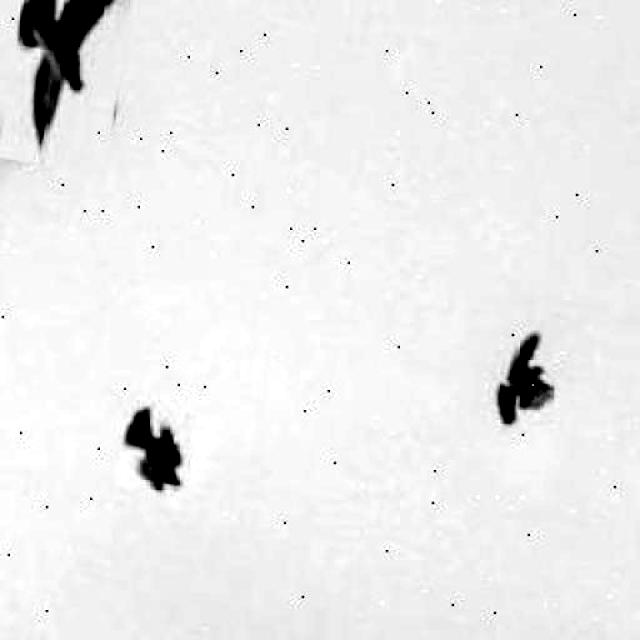airplane: (0, 0, 138, 175), (116, 404, 196, 498), (494, 328, 564, 430)
